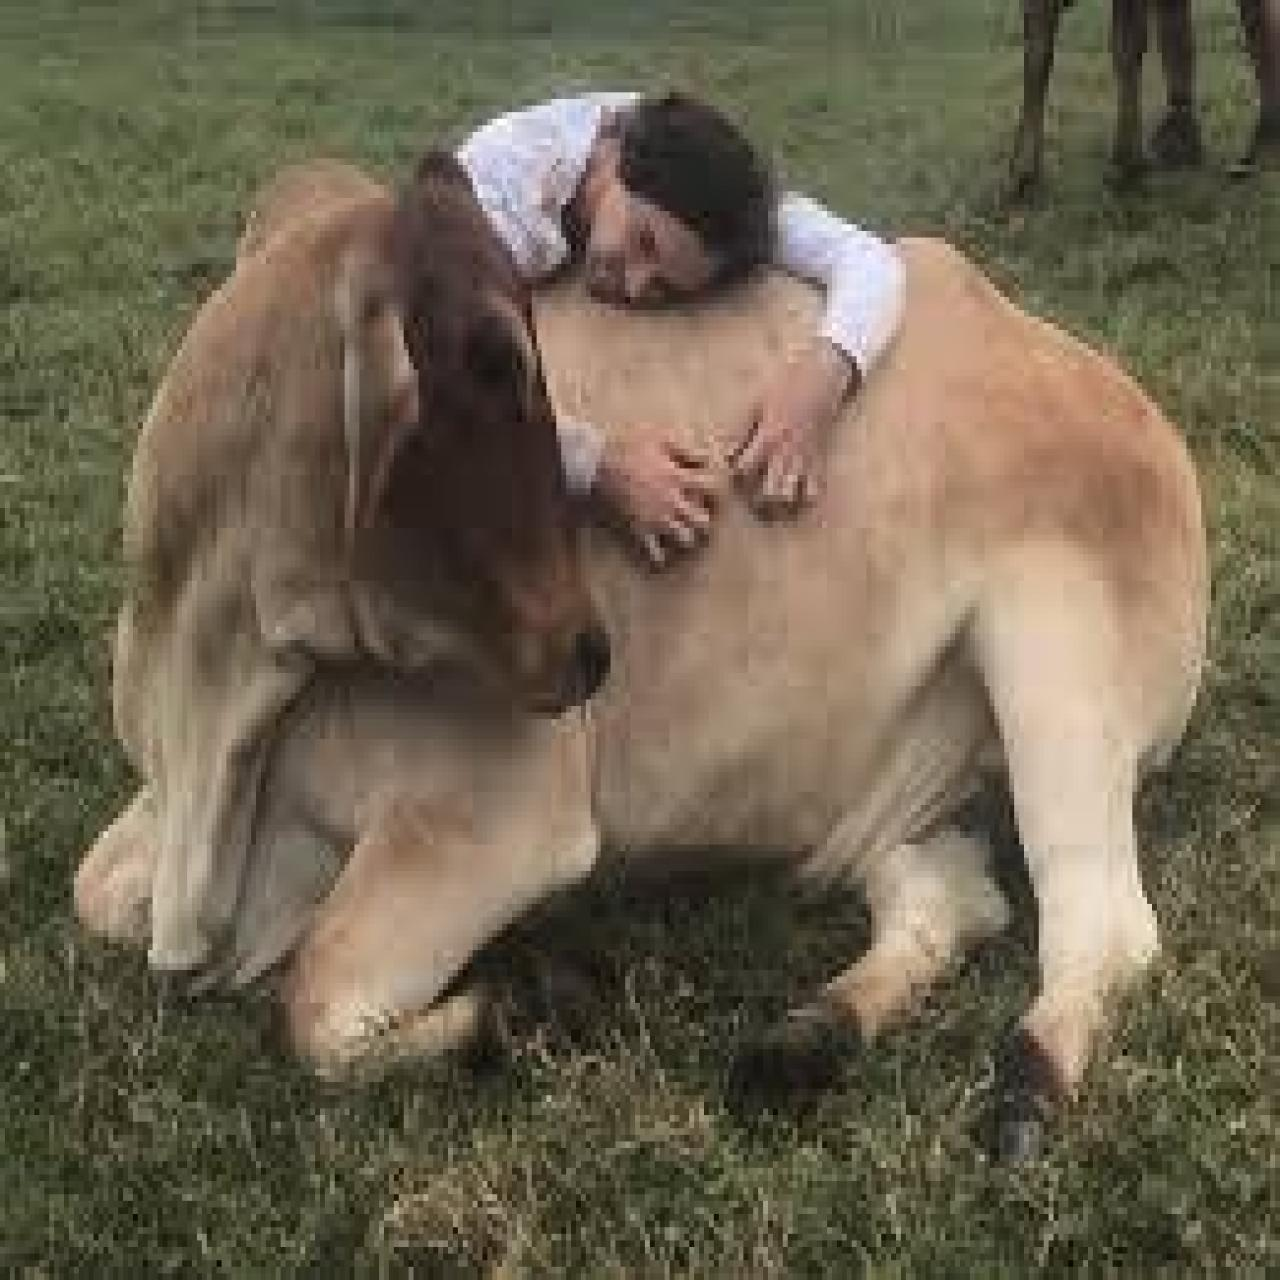cow: (76, 145, 1219, 1148)
